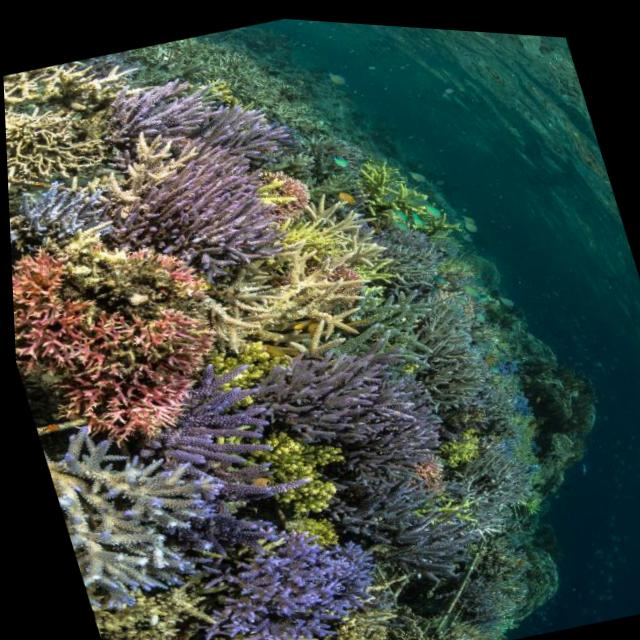Dead Coral: (3, 84, 114, 199)
Healthy Coral: (262, 301, 479, 602), (7, 201, 224, 447), (193, 210, 404, 382), (45, 416, 205, 613), (158, 508, 376, 640), (116, 133, 299, 288), (142, 351, 290, 500), (101, 52, 227, 156), (350, 135, 460, 243), (8, 169, 109, 248), (188, 86, 289, 159)
